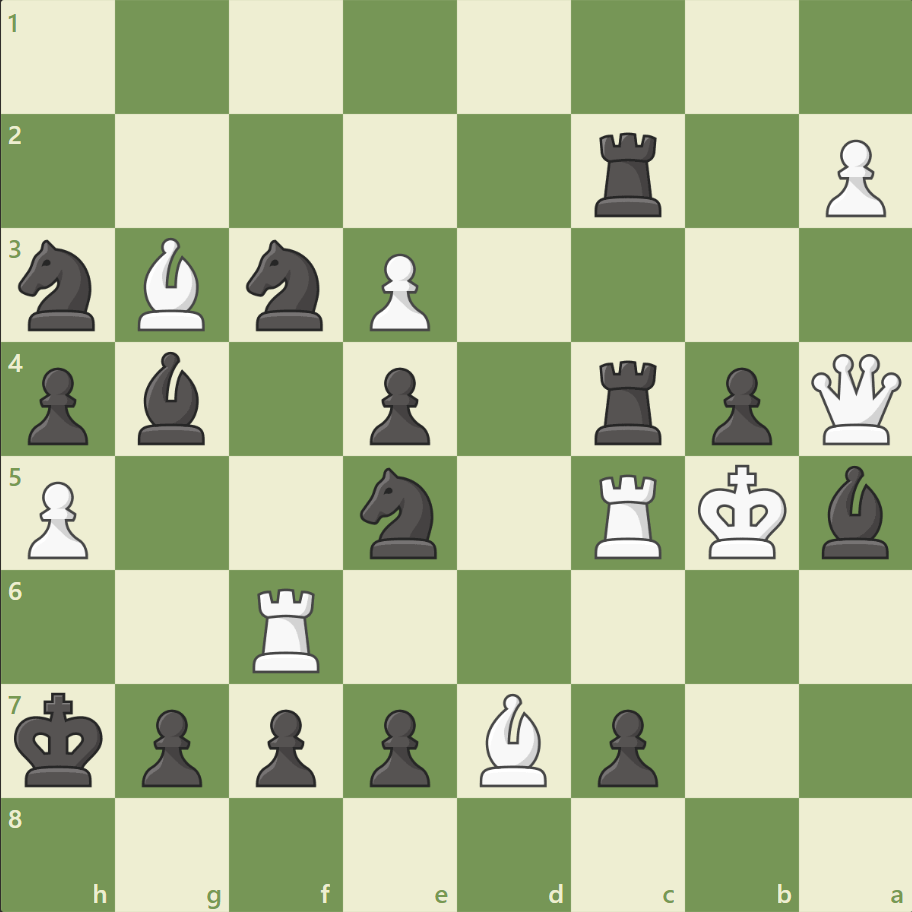B: (471, 687, 555, 790), (131, 233, 215, 336)
K: (692, 458, 792, 566)
P: (20, 473, 95, 564), (361, 246, 435, 337), (815, 132, 889, 223)
Q: (805, 349, 904, 449)
R: (246, 579, 329, 676), (587, 466, 670, 563)
b: (812, 460, 896, 563), (131, 347, 215, 449)
k: (11, 685, 111, 793)
n: (351, 461, 449, 564), (238, 234, 335, 337), (11, 234, 108, 337)
p: (247, 700, 322, 791), (133, 700, 208, 791), (701, 359, 776, 450), (20, 359, 95, 450), (588, 700, 662, 791), (361, 700, 435, 791), (361, 359, 435, 450)
r: (587, 352, 670, 449), (587, 125, 670, 222)
